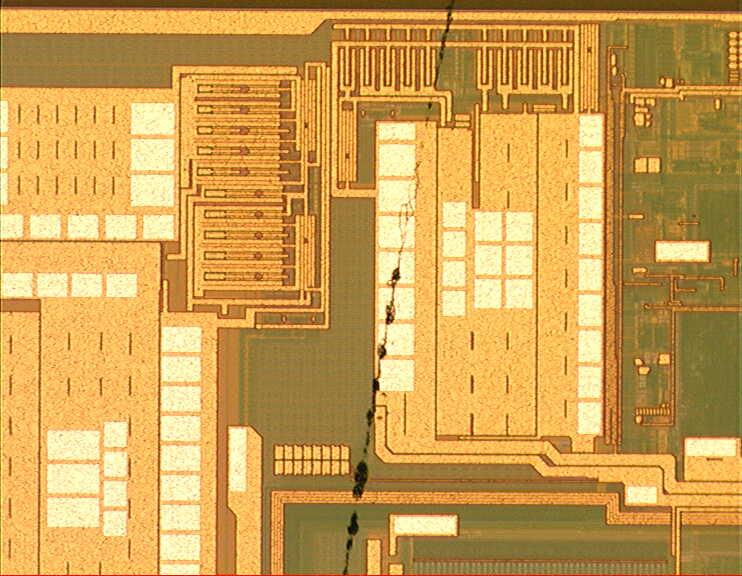SCRATCH: (329, 1, 472, 576)
